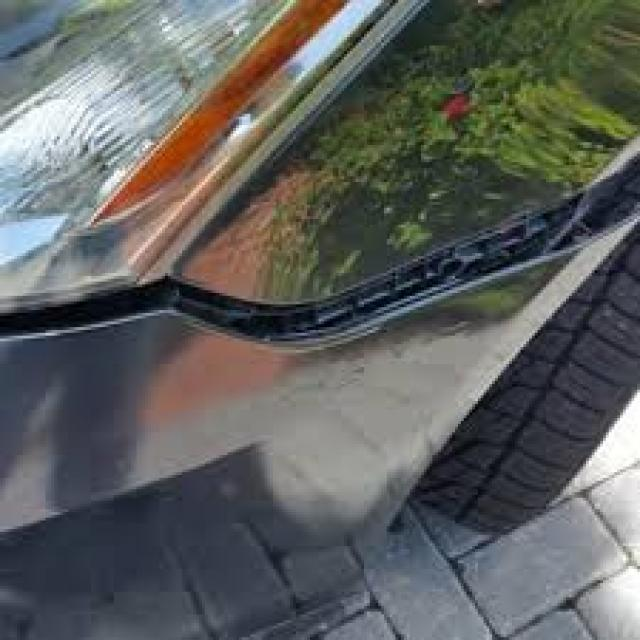minor: (0, 156, 606, 427)
